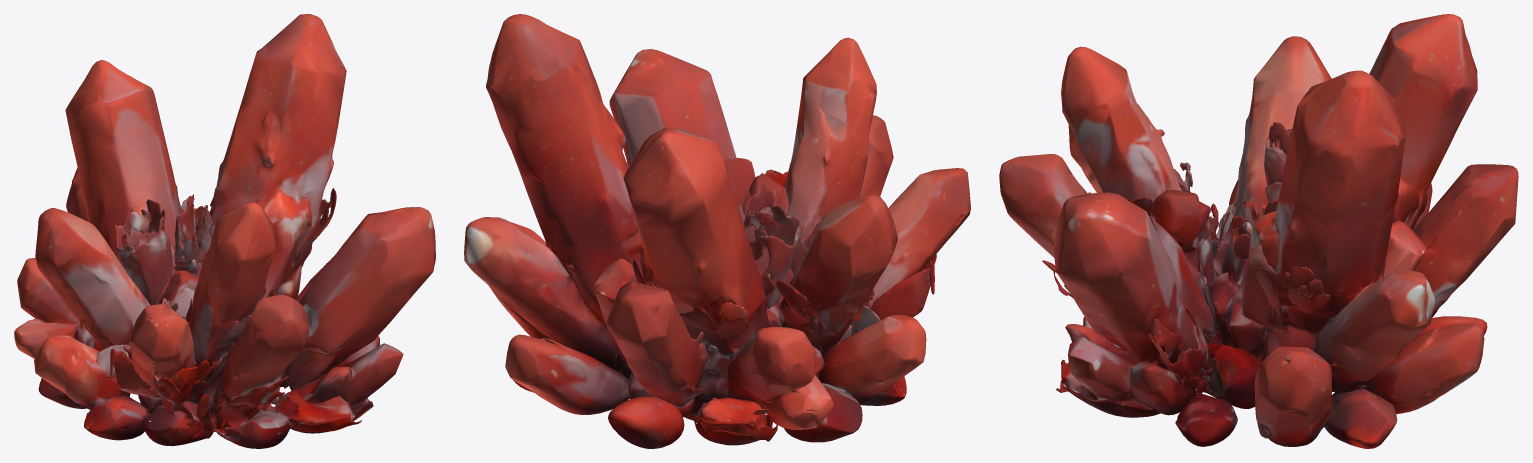
File: prop-crystal-red.glb
The picture shows the model from 3 angles, left to right: view 1: azimuth 30°, elevation 25°; view 2: azimuth 150°, elevation 25°; view 3: azimuth 270°, elevation 25°; orthographic projection. The views are drawn at different scales.
Parts seen in each view (by area): view 1: tripo_node_b2a846ab-b0db-470c-82c2-2335e3f845e8; view 2: tripo_node_b2a846ab-b0db-470c-82c2-2335e3f845e8; view 3: tripo_node_b2a846ab-b0db-470c-82c2-2335e3f845e8.
Part boxes in pixels (<box>): tripo_node_b2a846ab-b0db-470c-82c2-2335e3f845e8: <box>14,14,435,448</box>; tripo_node_b2a846ab-b0db-470c-82c2-2335e3f845e8: <box>464,14,970,448</box>; tripo_node_b2a846ab-b0db-470c-82c2-2335e3f845e8: <box>999,14,1518,448</box>.
Bounding box in the file's own units: 2.41 × 2 × 2.43.
1 material, 1 textured.
